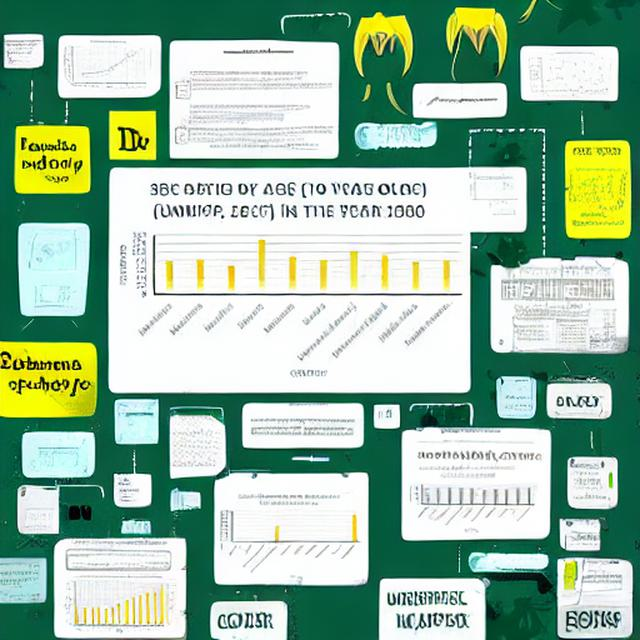Graph: (110, 174, 468, 381), (217, 492, 364, 580), (404, 463, 537, 534), (59, 573, 167, 636), (60, 38, 149, 92), (533, 50, 611, 98), (469, 178, 521, 206)
